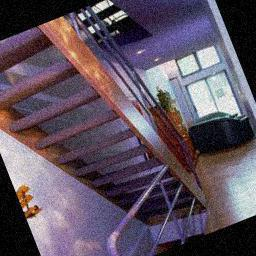Escaleras: (0, 5, 213, 256), (32, 169, 199, 256)
